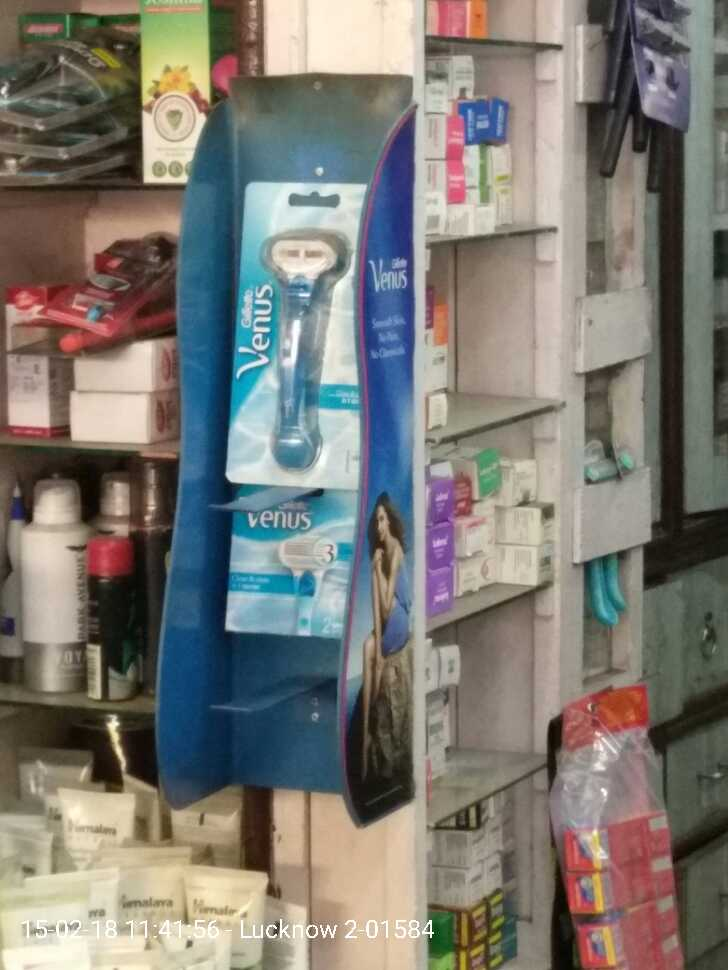beauty: (230, 166, 363, 490), (219, 484, 354, 645)
